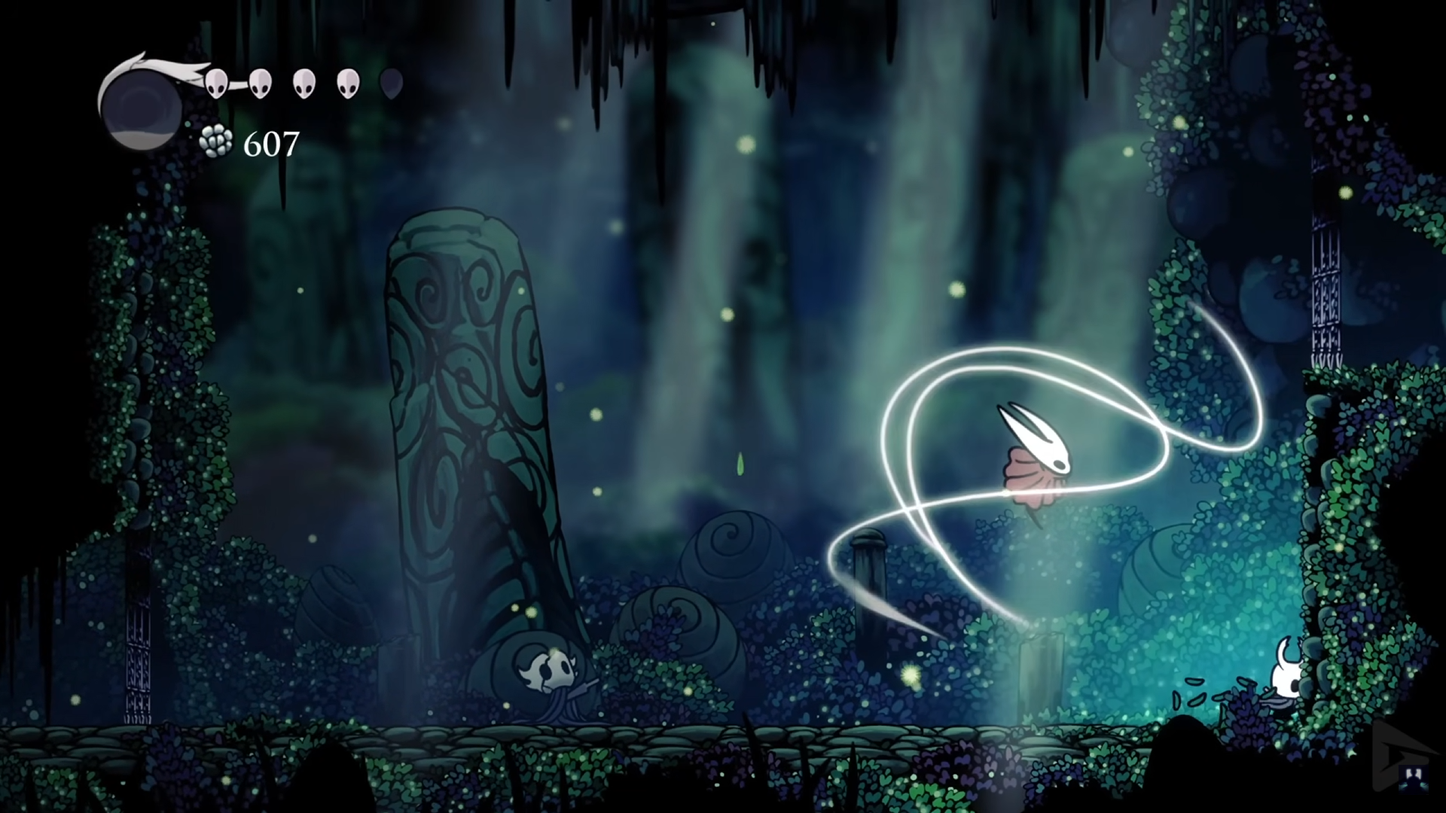HK: (1260, 635, 1311, 721)
